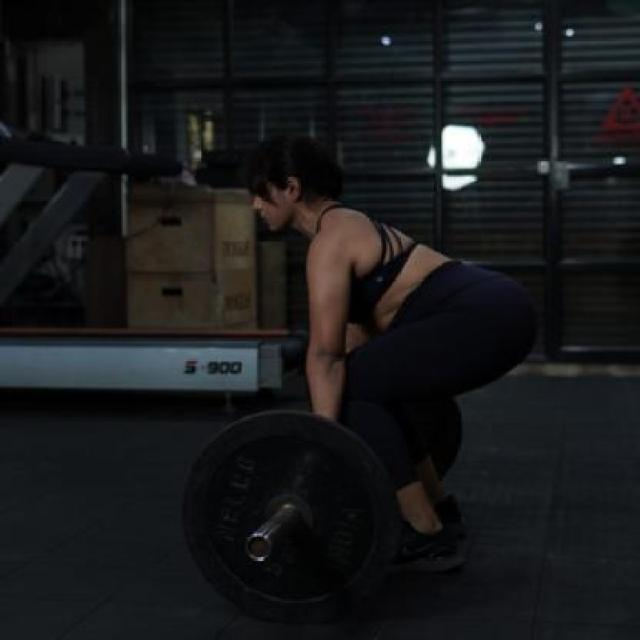barbell: (164, 404, 413, 633)
